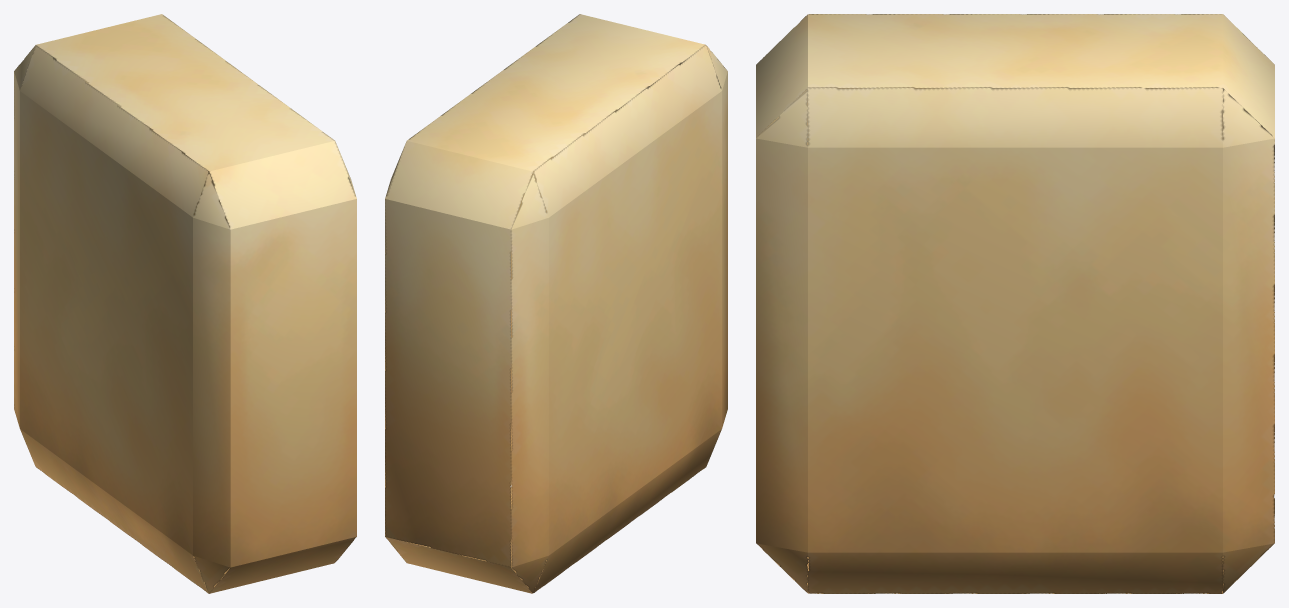
The model's file is PlayerBaseMound.fbx.
3 renders of one model, left to right at view 1: azimuth 30°, elevation 25°; view 2: azimuth 150°, elevation 25°; view 3: azimuth 270°, elevation 25°, orthographic. The views are drawn at different scales.
Parts seen in each view (by area): view 1: Cube.002; view 2: Cube.002; view 3: Cube.002.
Boxes of the visible parts, x1,y1,x2,y2 form: Cube.002: [14, 14, 356, 593]; Cube.002: [385, 14, 727, 593]; Cube.002: [756, 14, 1274, 593].
Bounding box in the file's own units: 431 × 1100 × 1022.
